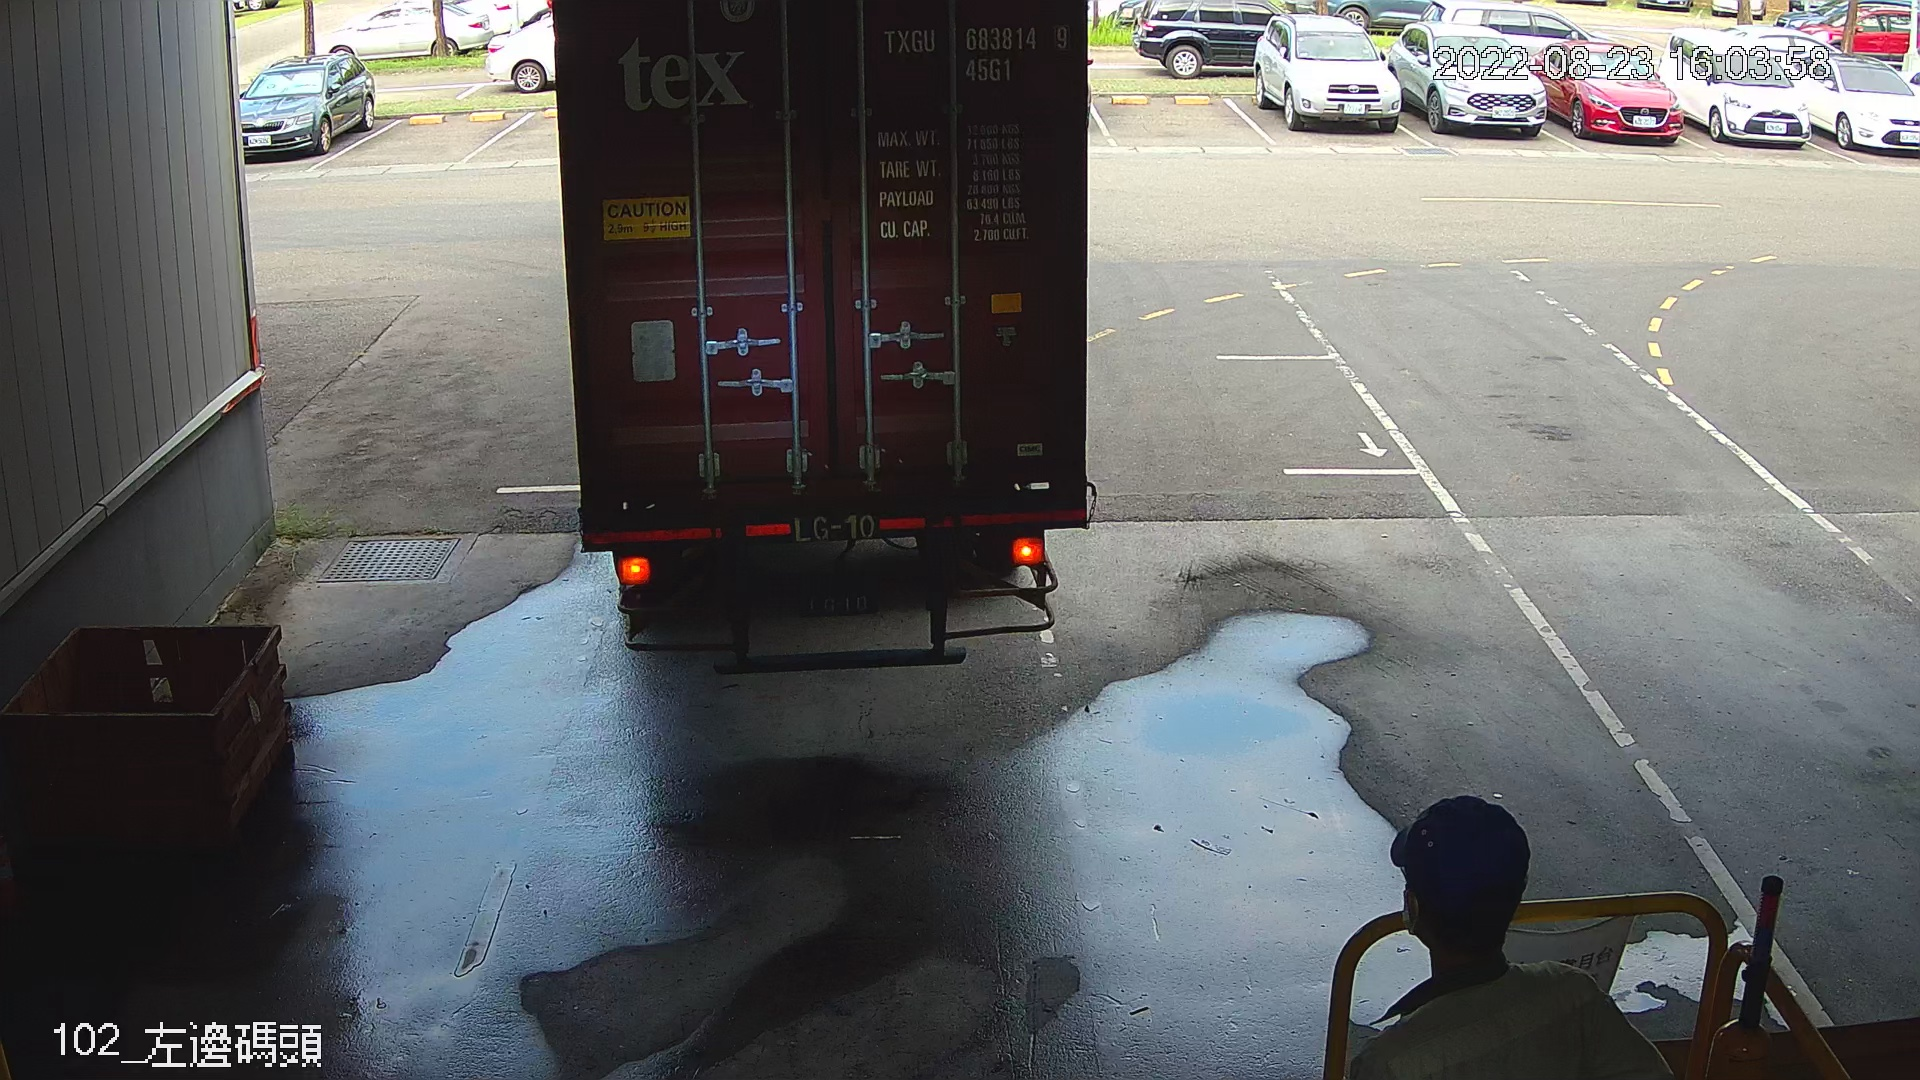container: (876, 18, 1076, 92)
